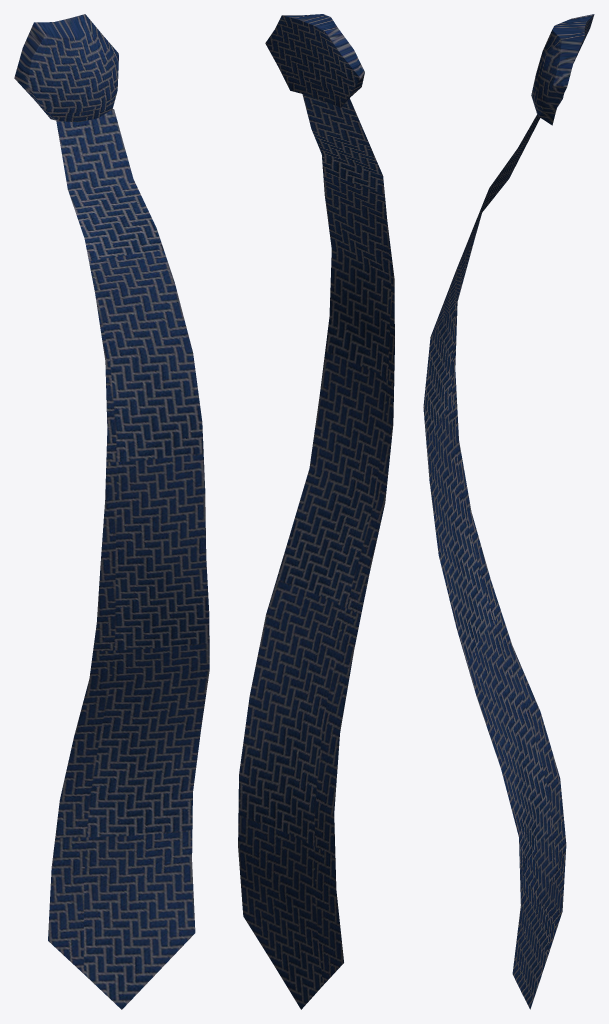
The model's file is Pose-1_SuitTie-3.fbx.
3 views of the same model, side by side, from view 1: azimuth 30°, elevation 25°; view 2: azimuth 150°, elevation 25°; view 3: azimuth 270°, elevation 25° (orthographic). The views are drawn at different scales.
Parts seen in each view (by area): view 1: Pose-1_SuitTie-3; view 2: Pose-1_SuitTie-3; view 3: Pose-1_SuitTie-3.
Boxes of the visible parts, x1,y1,x2,y2 form: Pose-1_SuitTie-3: (14,14,209,1009); Pose-1_SuitTie-3: (238,14,394,1009); Pose-1_SuitTie-3: (423,14,594,1009).
Bounding box in the file's own units: 7.97 × 50.39 × 8.06.
